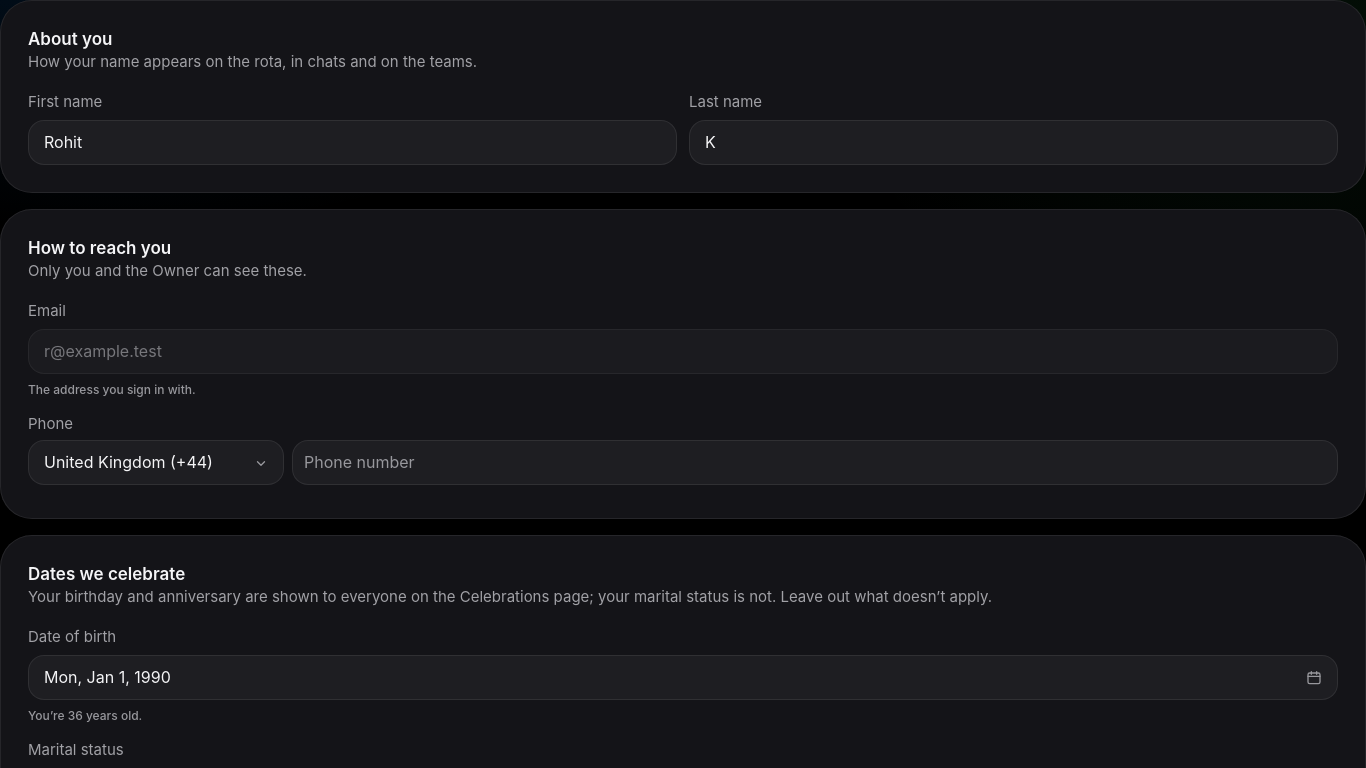
the profile saves itself › saves a changed name a moment after typing stops, and says so
The width and height of the screenshot is (1366, 768).
Replace the text in the field showing "Rohit" with "Rohan" at (352, 142), box [28, 120, 677, 165]
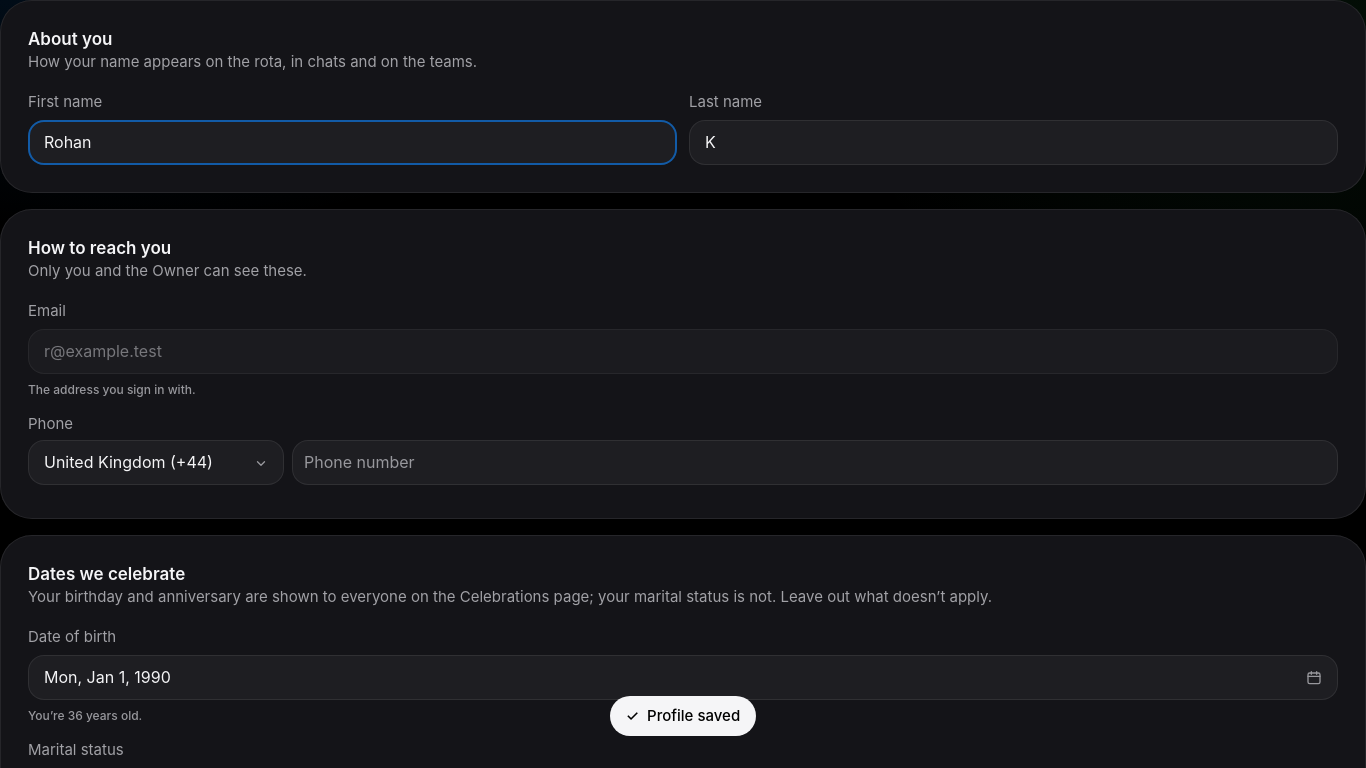
Expected: the text "Profile saved" is shown, [647, 706, 740, 725]
